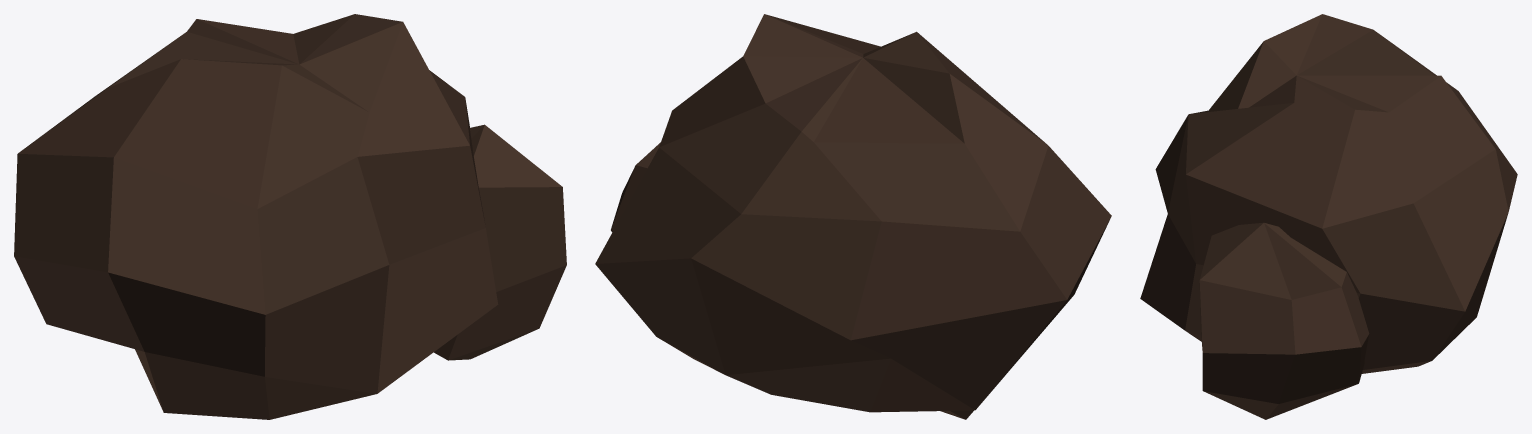
Rendered from truffle.obj.
3 views of the same model, side by side, from view 1: azimuth 30°, elevation 25°; view 2: azimuth 150°, elevation 25°; view 3: azimuth 270°, elevation 25° (orthographic). The views are drawn at different scales.
Visible parts, largest first — view 1: item; view 2: item; view 3: item.
Boxes of the visible parts, bbox=[...] form: item: bbox=[14, 14, 566, 419]; item: bbox=[595, 14, 1111, 419]; item: bbox=[1140, 14, 1517, 419].
Size of the model in its own units: 0.5041 by 0.3429 by 0.3816.
